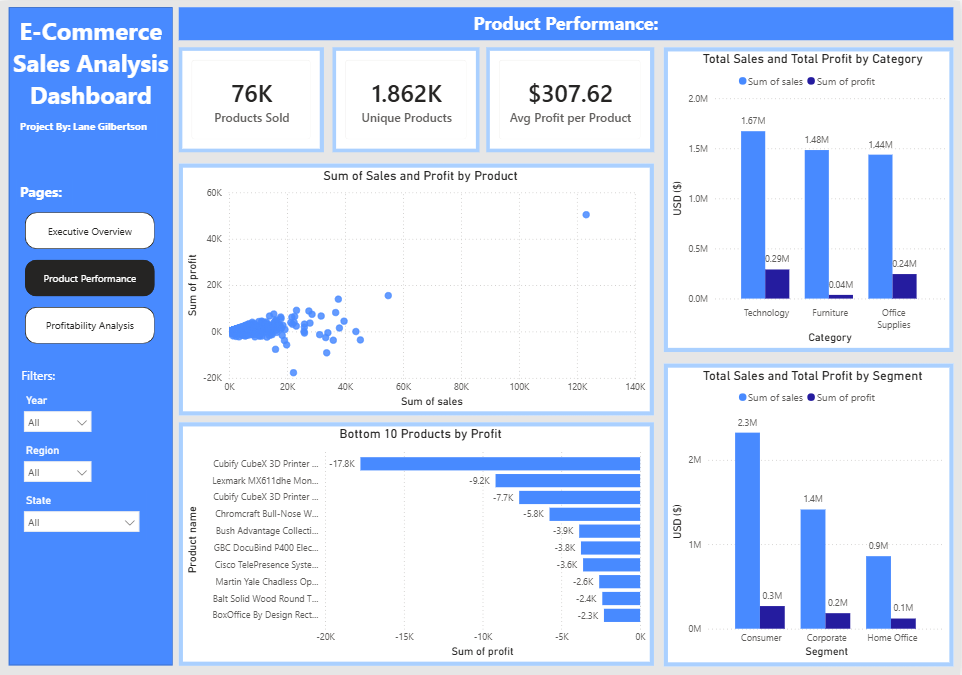

The dashboard page shown, as its layout file describes it:
{"tool":"powerbi","page":{"name":"Product Performance","canvas":[1280,900],"ordinal":1},"visuals":[{"type":"shape","box":[11.2,8.8,218.8,877.5],"z":0},{"type":"textbox","box":[11.2,13.8,218.8,152.5],"z":1000},{"type":"textbox","box":[21.2,153.8,187.5,31.2],"z":2000},{"type":"textbox","box":[238.8,8.8,1032.5,43.8],"z":3000},{"type":"clusteredColumnChart","title":"Total Sales and Total Profit by Category","fields":{"Category":["public sales_analysis.category"],"Y":["Sum(public sales_analysis.sales)","Sum(public sales_analysis.profit)"]},"box":[885,61.2,386.2,406.2],"z":4000},{"type":"slicer","fields":{"Values":["public sales_analysis.order_date.Variation.Date Hierarchy.Year"]},"box":[22.3,519,110,66.2],"z":5000},{"type":"slicer","fields":{"Values":["public sales_analysis.region"]},"box":[22.3,585.2,110,66.2],"z":6000},{"type":"slicer","fields":{"Values":["public sales_analysis.state"]},"box":[22.3,651.5,173.8,66.2],"z":7000},{"type":"textbox","box":[21.9,237,75.3,35.6],"z":8000},{"type":"textbox","box":[23.6,482.7,66.2,36.2],"z":9000},{"type":"pageNavigator","box":[32.9,282.2,174,176.7],"z":10000},{"type":"scatterChart","title":"Sum of Sales and Profit by Product","fields":{"X":["Sum(public sales_analysis.sales)"],"Y":["Sum(public sales_analysis.profit)"],"Category":["public sales_analysis.product_name"]},"box":[238.8,216.2,633.8,336.2],"z":11000},{"type":"clusteredColumnChart","title":"Total Sales and Total Profit by Segment","fields":{"Y":["Sum(public sales_analysis.sales)","Sum(public sales_analysis.profit)"],"Category":["public sales_analysis.segment"]},"box":[885,482.5,386.2,403.8],"z":12000},{"type":"cardVisual","fields":{"Data":["public customer_repeat_analysis.Products Sold"]},"box":[238.8,61.2,193.8,140],"z":13000},{"type":"barChart","title":"Bottom 10 Products by Profit","fields":{"Y":["Sum(public sales_analysis.profit)"],"Category":["public sales_analysis.product_name"]},"box":[238.8,561.2,633.8,325],"z":14000},{"type":"cardVisual","fields":{"Data":["public customer_repeat_analysis.Unique Products"]},"box":[443.8,61.2,196.2,140],"z":15000},{"type":"cardVisual","fields":{"Data":["public customer_repeat_analysis.Avg Profit per Product"]},"box":[648.8,61.2,223.8,140],"z":16000}]}

Visuals, with their boxes in screenshot pixels (x1, y1, x2, y2), scaled from the page's 1280x900 canvas onto the 962x675 screenshot:
shape: BBox(8, 7, 173, 665)
textbox: BBox(8, 10, 173, 125)
textbox: BBox(16, 115, 157, 139)
textbox: BBox(179, 7, 955, 39)
"Total Sales and Total Profit by Category" clusteredColumnChart: BBox(665, 46, 955, 351)
slicer - public sales_analysis.order_date.Variation.Date Hierarchy.Year: BBox(17, 389, 99, 439)
slicer - public sales_analysis.region: BBox(17, 439, 99, 489)
slicer - public sales_analysis.state: BBox(17, 489, 147, 538)
textbox: BBox(16, 178, 73, 204)
textbox: BBox(18, 362, 67, 389)
pageNavigator: BBox(25, 212, 155, 344)
"Sum of Sales and Profit by Product" scatterChart: BBox(179, 162, 656, 414)
"Total Sales and Total Profit by Segment" clusteredColumnChart: BBox(665, 362, 955, 665)
cardVisual - public customer_repeat_analysis.Products Sold: BBox(179, 46, 325, 151)
"Bottom 10 Products by Profit" barChart: BBox(179, 421, 656, 665)
cardVisual - public customer_repeat_analysis.Unique Products: BBox(334, 46, 481, 151)
cardVisual - public customer_repeat_analysis.Avg Profit per Product: BBox(488, 46, 656, 151)
